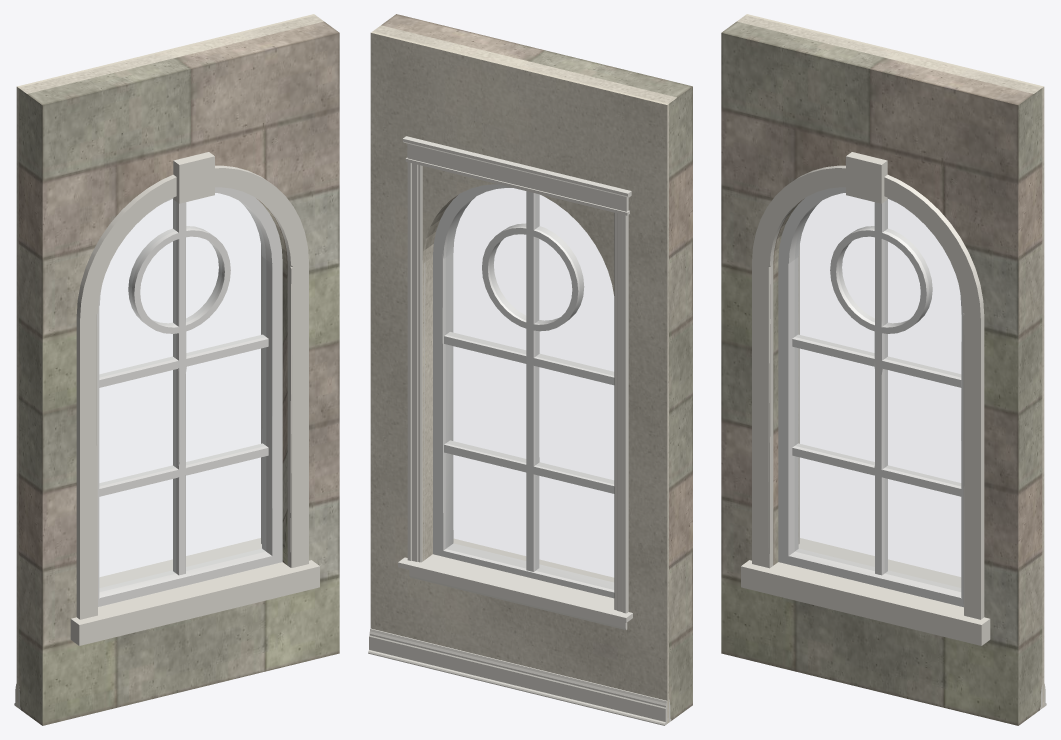
File: lib_wall_up_window.glb
3 renders of one model, left to right at view 1: azimuth 30°, elevation 25°; view 2: azimuth 150°, elevation 25°; view 3: azimuth 330°, elevation 25°, orthographic.
Parts seen in each view (by area): view 1: lib_wall_up_window_stone, folha_glass, lib_wall_up_window_cornice, lib_wall_up_window_frame, lib_wall_up_window_plaster, molduras; view 2: lib_wall_up_window_plaster, folha_glass, molduras, lib_wall_up_window_stone, lib_wall_up_window_frame, folha_frame, lib_wall_up_window_cornice; view 3: lib_wall_up_window_stone, folha_glass, lib_wall_up_window_cornice, lib_wall_up_window_frame, lib_wall_up_window_plaster, molduras.
Part boxes in pixels (x1,y1,x2,y2): lib_wall_up_window_stone: (18,21,339,725); folha_glass: (100,193,265,591); lib_wall_up_window_cornice: (70,152,319,645); lib_wall_up_window_frame: (97,187,282,606); lib_wall_up_window_plaster: (16,14,323,707); molduras: (14,244,261,709); lib_wall_up_window_plaster: (370,25,676,723); folha_glass: (446,188,613,588); molduras: (368,136,671,725); lib_wall_up_window_stone: (381,14,692,720); lib_wall_up_window_frame: (433,184,614,598); folha_frame: (444,191,614,571); lib_wall_up_window_cornice: (453,538,614,582); lib_wall_up_window_stone: (721,21,1042,725); folha_glass: (795,193,960,591); lib_wall_up_window_cornice: (741,152,990,645); lib_wall_up_window_frame: (778,187,963,607); lib_wall_up_window_plaster: (737,14,1044,707); molduras: (798,244,1046,709).
Size of the model in its own units: 2 by 3.99 by 0.48.
Materials: 6 (2 with a texture image).
